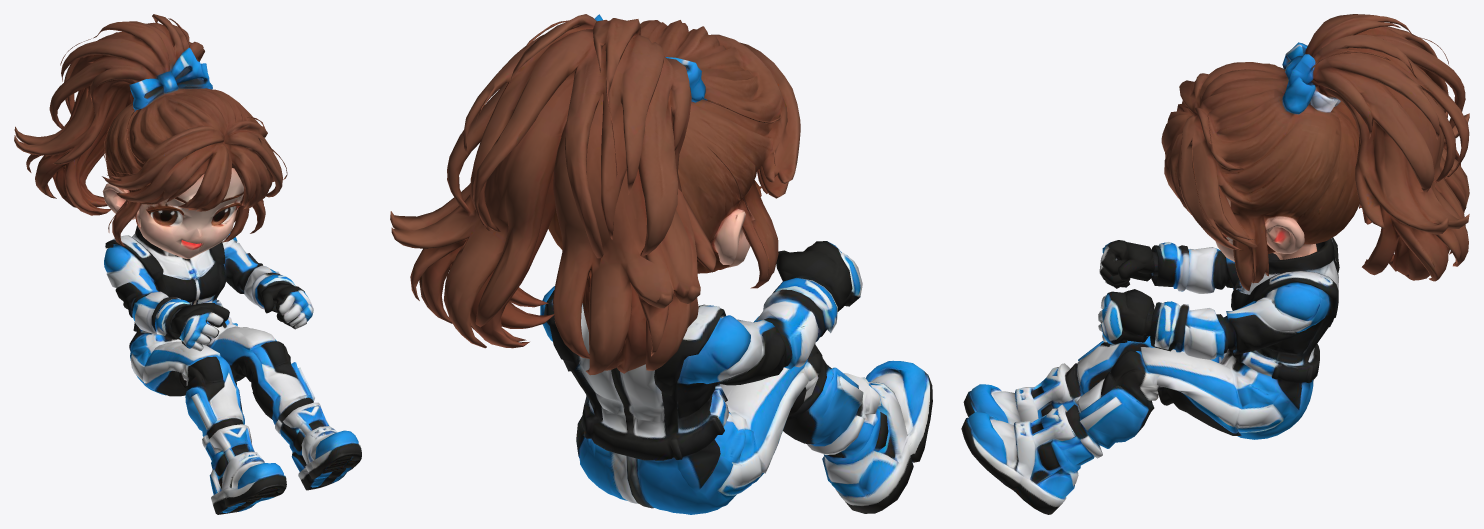
3 views of the same model, side by side, from view 1: azimuth 30°, elevation 25°; view 2: azimuth 150°, elevation 25°; view 3: azimuth 270°, elevation 25° (orthographic). The views are drawn at different scales.
Visible parts, largest first — view 1: avatar_skye; view 2: avatar_skye; view 3: avatar_skye.
Boxes of the visible parts, x1,y1,x2,y2 form: avatar_skye: (14,14,361,514); avatar_skye: (390,14,932,514); avatar_skye: (961,14,1469,514).
Size of the model in its own units: 1.06 by 2.05 by 2.
1 material, 1 textured.
